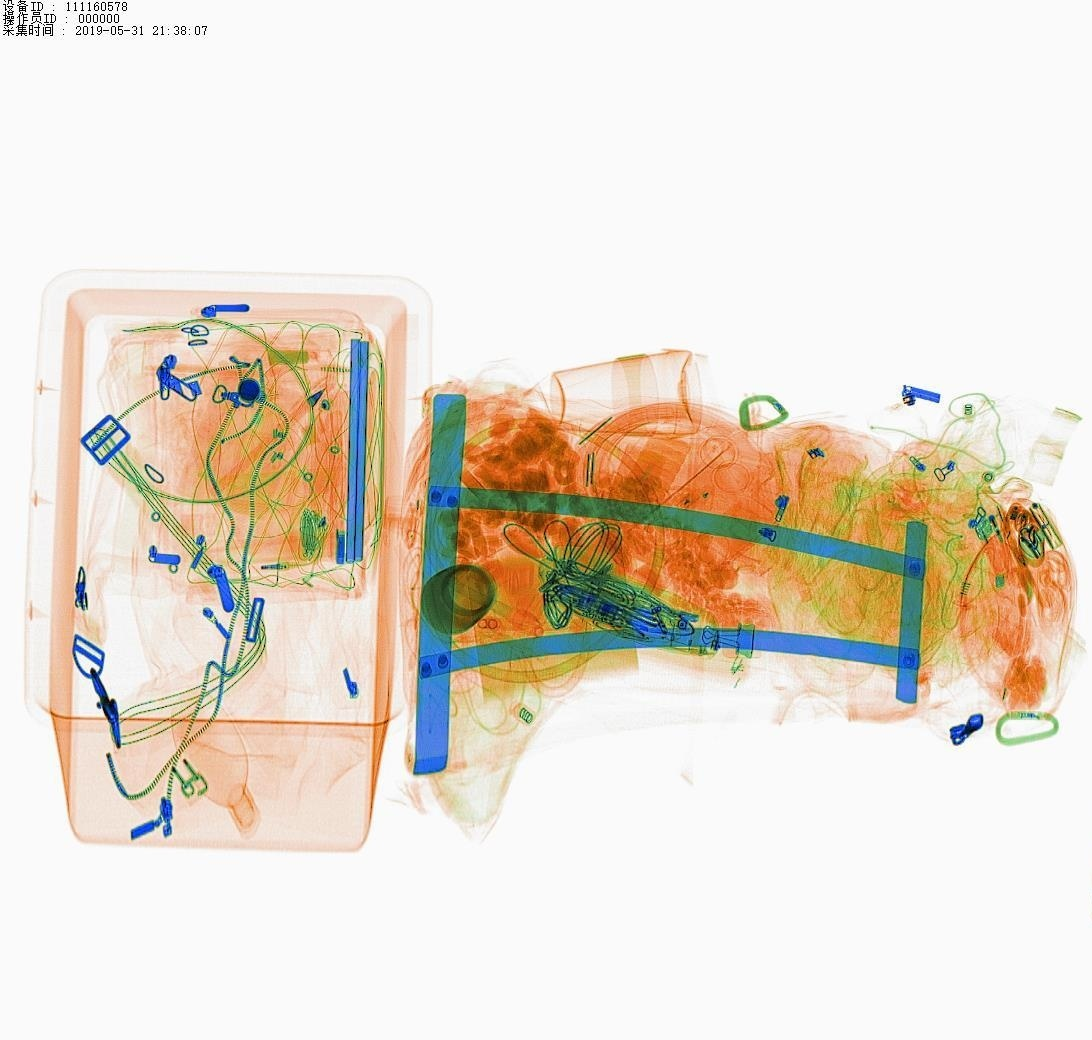NonmetallicFire: (962, 499, 1032, 586)
